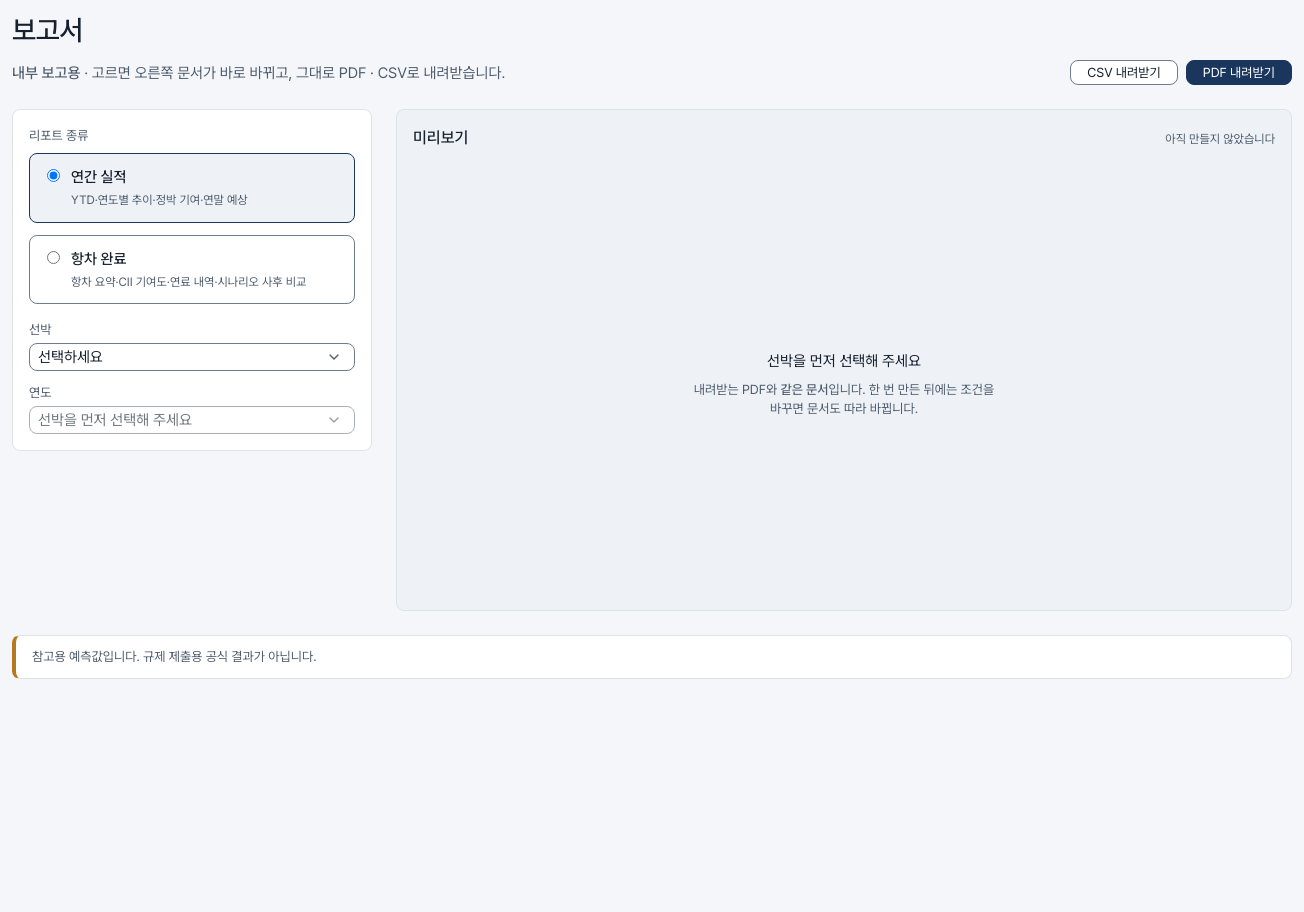
Test case: 선박을 바꾸면 항차 목록이 어긋나지 않는다 (#824 ⑵) › 조회 실패를 「항차 없음」으로 말하지 않는다
Click the radio button with test id "kind-voyage" at point(54, 257), box [47, 251, 60, 264]
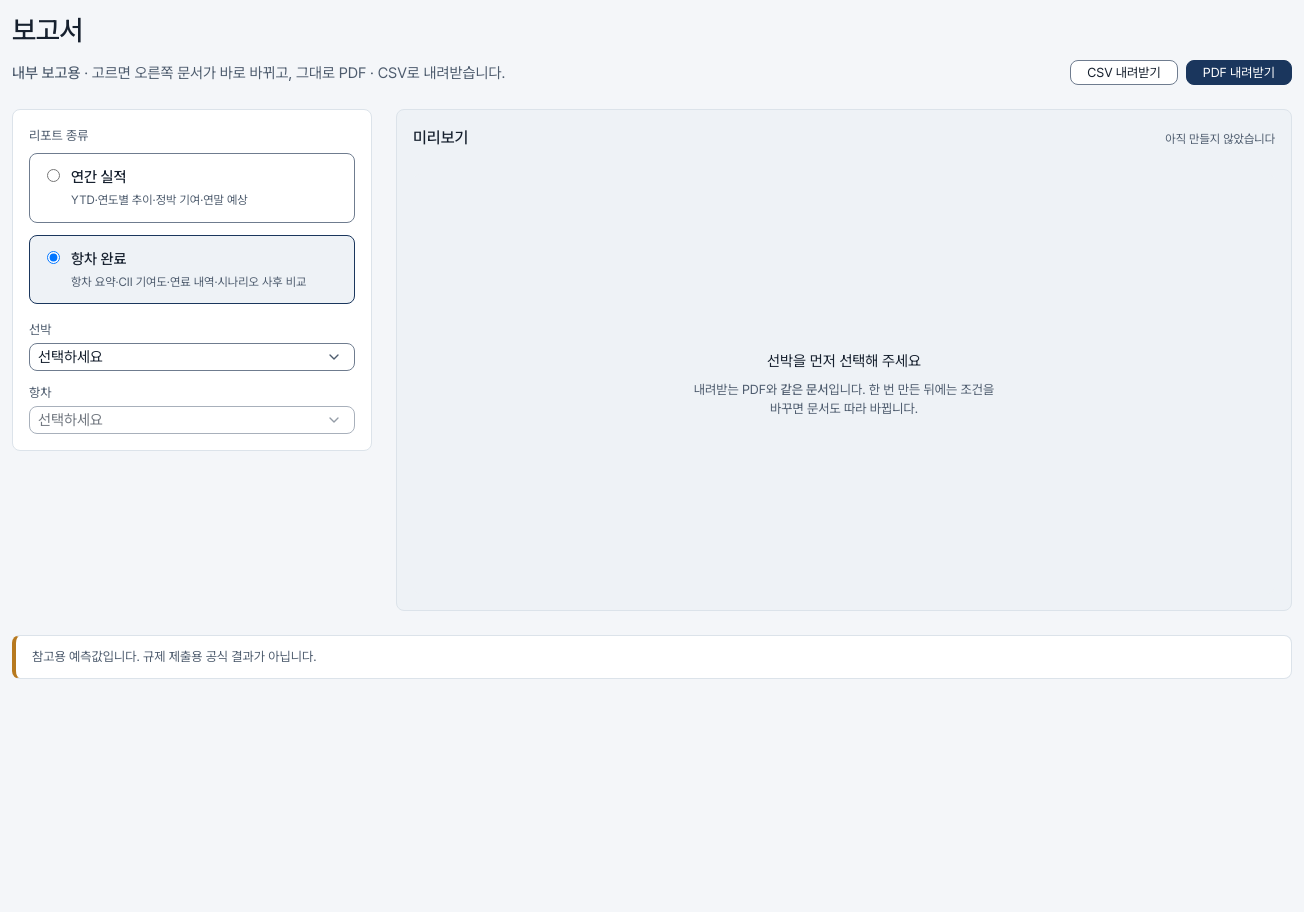
Select "STAR SKIPPER (IMO 9876543)" in the dropdown with test id "vessel-select" at point(192, 357), box [29, 343, 355, 371]
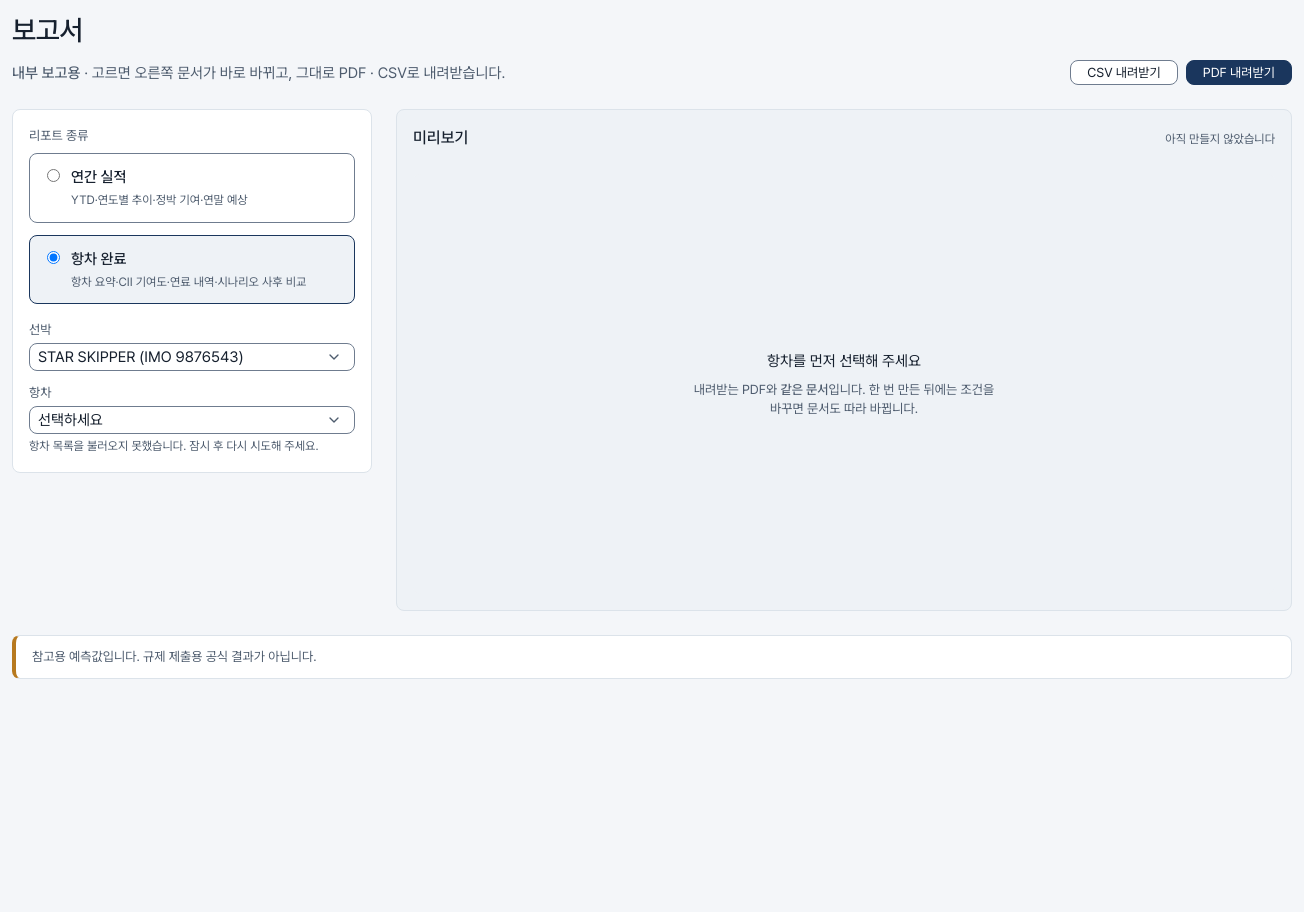
Check: the text "항차 목록을 불러오지 못했습니다. 잠시 후 다시 시도해 주세요." is shown, box [29, 438, 355, 456]
